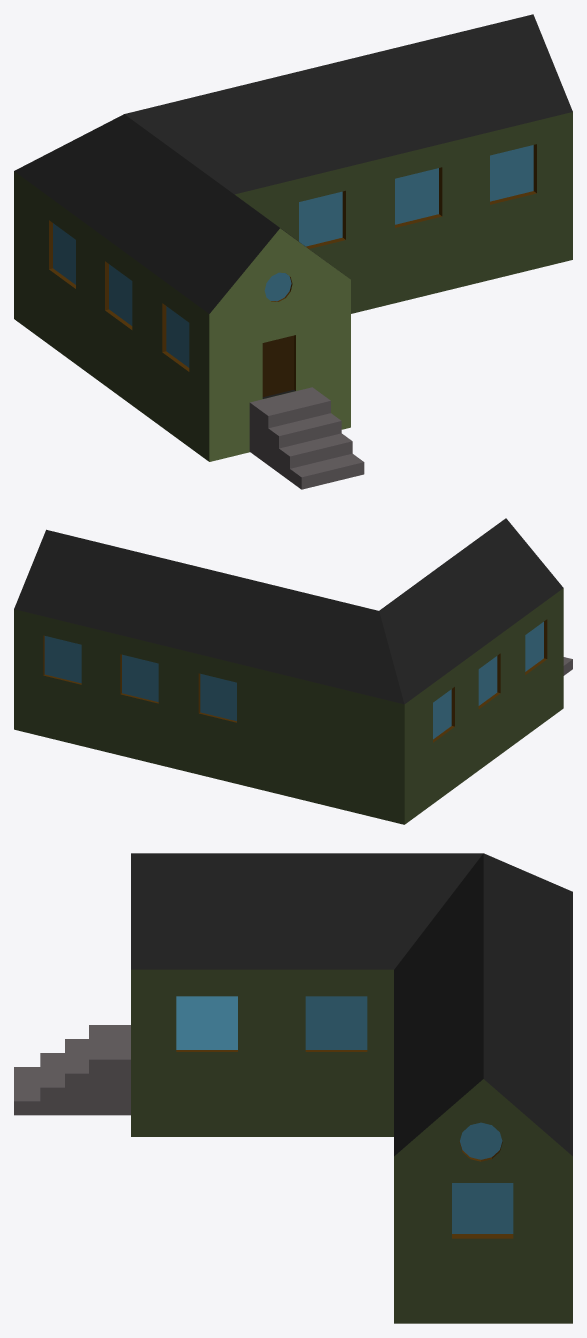
Rendered from House_2.fbx.
The picture shows the model from 3 angles, top to bottom: view 1: azimuth 30°, elevation 25°; view 2: azimuth 150°, elevation 25°; view 3: azimuth 270°, elevation 25°; orthographic projection. The views are drawn at different scales.
Visible parts, largest first — view 1: House_Corner_01; view 2: House_Corner_01; view 3: House_Corner_01.
Boxes of the visible parts, x1,y1,x2,y2 form: House_Corner_01: (14, 14, 572, 489); House_Corner_01: (14, 518, 572, 824); House_Corner_01: (14, 853, 572, 1323).
Size of the model in its own units: 2036 by 879 by 1817.
